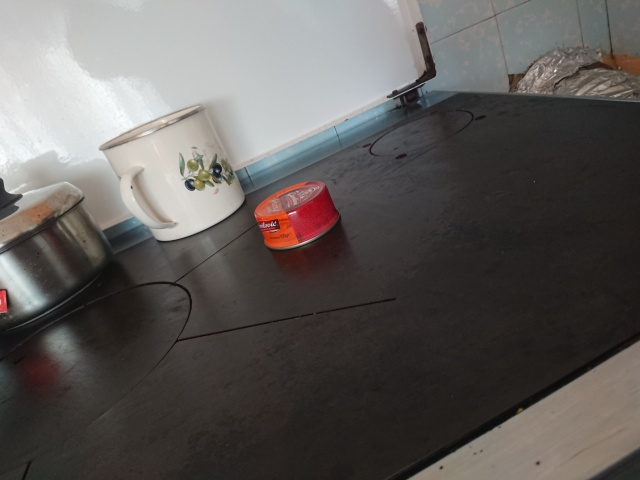Gavrilovic Pork Liver Pate 100g: (252, 178, 342, 253)
